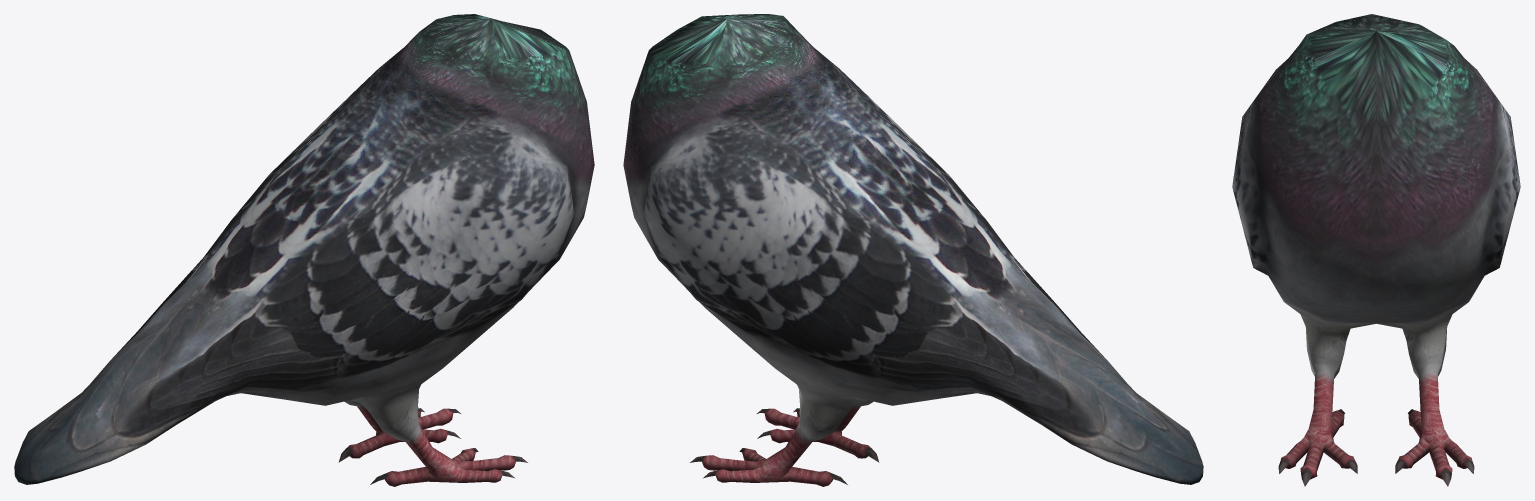
File: body.fbx
3 views of the same model, side by side, from view 1: azimuth 30°, elevation 25°; view 2: azimuth 150°, elevation 25°; view 3: azimuth 270°, elevation 25° (orthographic). The views are drawn at different scales.
Parts seen in each view (by area): view 1: pigeon_01b; view 2: pigeon_01b; view 3: pigeon_01b.
Boxes of the visible parts, x1,y1,x2,y2 form: pigeon_01b: [14, 14, 594, 486]; pigeon_01b: [623, 14, 1203, 486]; pigeon_01b: [1232, 14, 1520, 486].
Bounding box in the file's own units: 5579 × 4086 × 2330.
